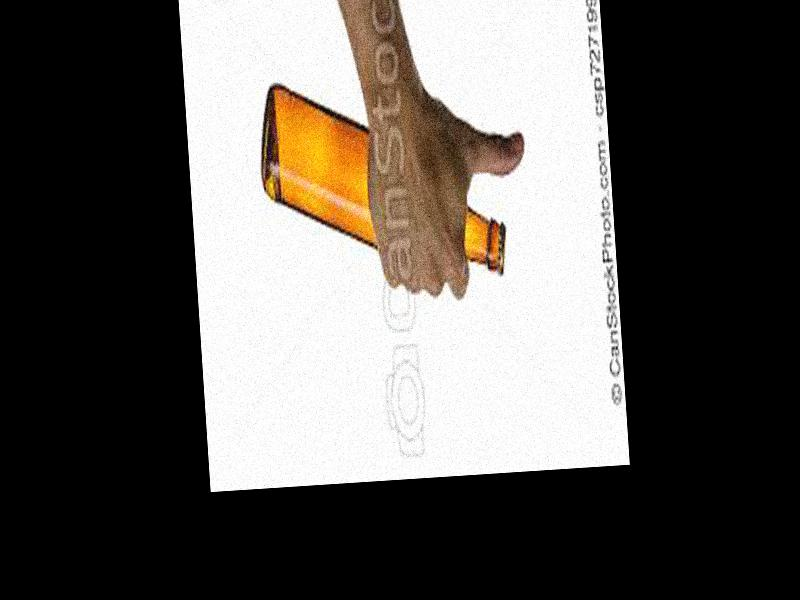Beer: (256, 68, 506, 287)
